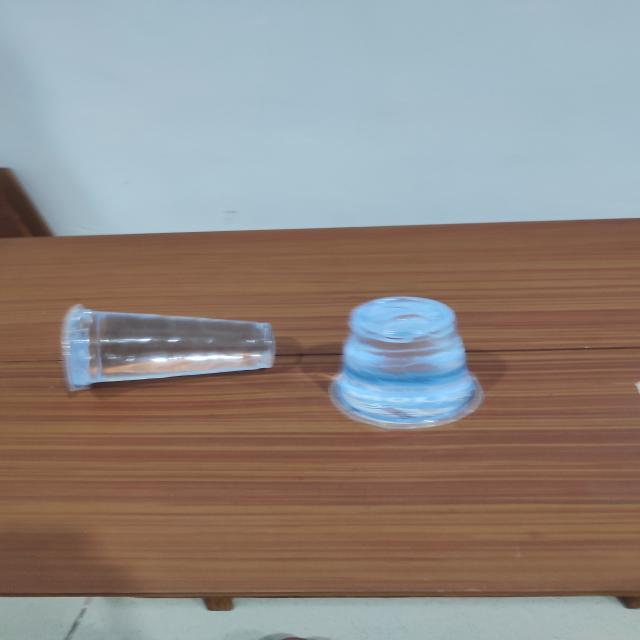air gelas: (326, 293, 490, 427), (53, 301, 286, 391)
